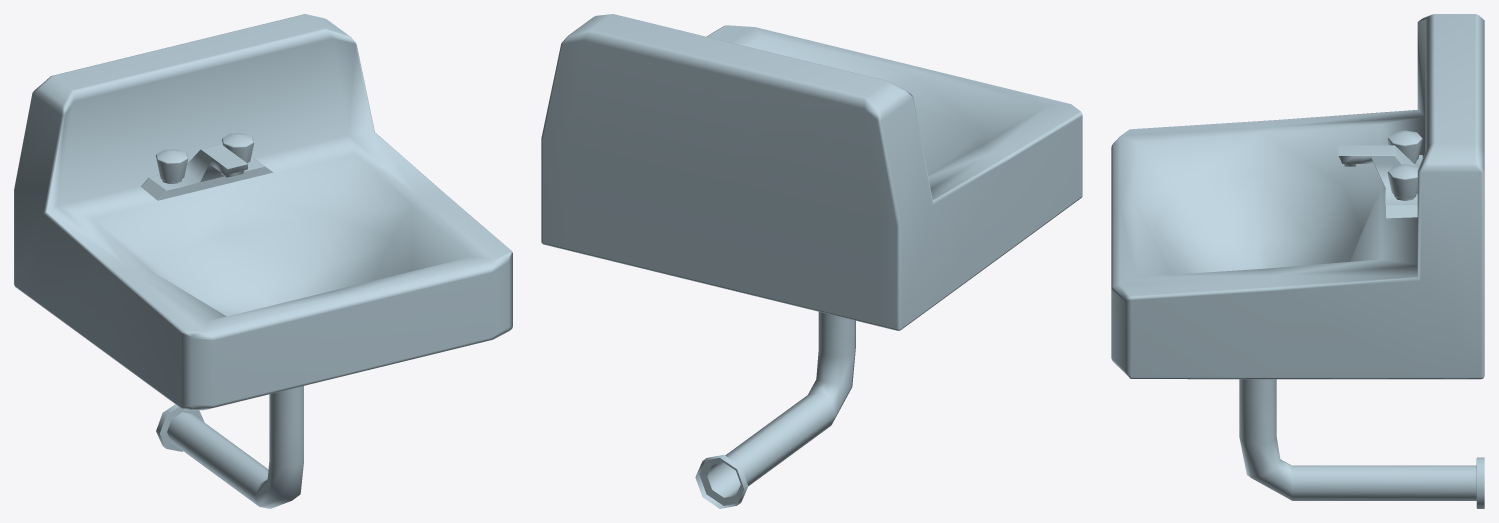
File: Sink.FBX
The picture shows the model from 3 angles, left to right: view 1: azimuth 30°, elevation 25°; view 2: azimuth 150°, elevation 25°; view 3: azimuth 270°, elevation 25°; orthographic projection. The views are drawn at different scales.
Parts seen in each view (by area): view 1: Sink; view 2: Sink; view 3: Sink.
Boxes of the visible parts, x1=… form: Sink: x1=14, y1=14, x2=512, y2=508; Sink: x1=541, y1=14, x2=1082, y2=508; Sink: x1=1111, y1=14, x2=1484, y2=508.
Size of the model in its own units: 149 by 138 by 175.
